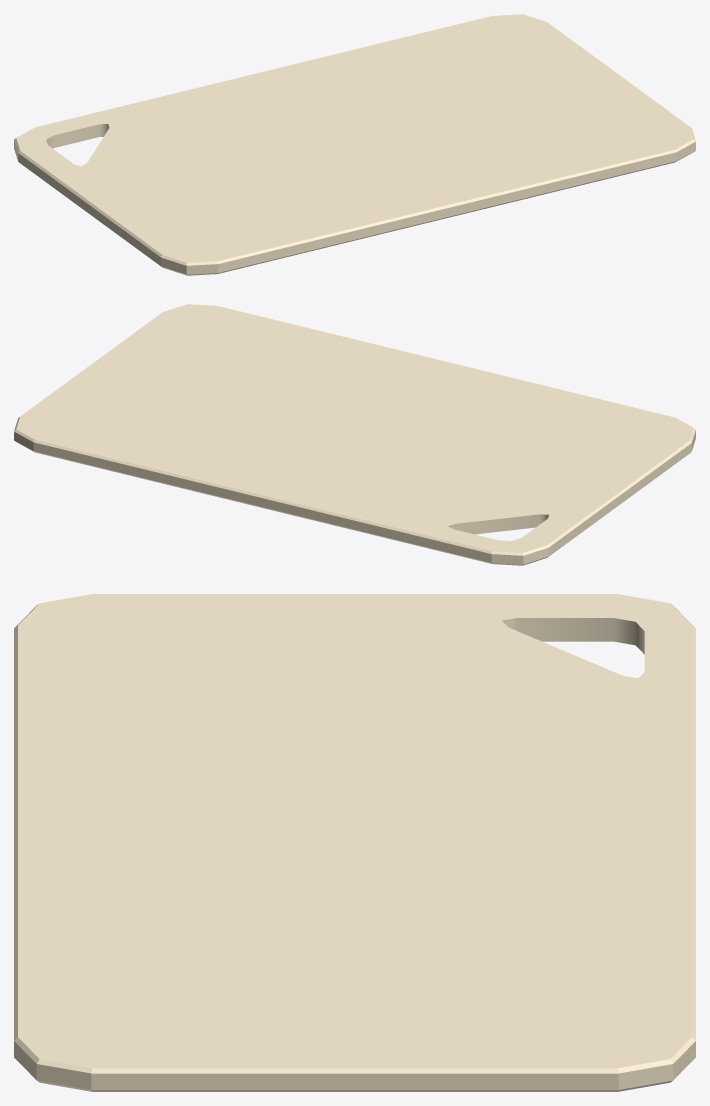
Rendered from cooking_assets_cutting_board_eygrmzeg0c.glb.
The picture shows the model from 3 angles, top to bottom: view 1: azimuth 30°, elevation 25°; view 2: azimuth 150°, elevation 25°; view 3: azimuth 270°, elevation 25°; orthographic projection. The views are drawn at different scales.
Visible parts, largest first — view 1: board_cutting_board_plastic_Cube.119; view 2: board_cutting_board_plastic_Cube.119; view 3: board_cutting_board_plastic_Cube.119.
Boxes of the visible parts, x1=… form: board_cutting_board_plastic_Cube.119: x1=14, y1=14, x2=695, y2=275; board_cutting_board_plastic_Cube.119: x1=14, y1=304, x2=695, y2=565; board_cutting_board_plastic_Cube.119: x1=14, y1=594, x2=695, y2=1091.
Bounding box in the file's own units: 4.11 × 0.0947 × 2.48.
Materials: 1 (1 with a texture image).
